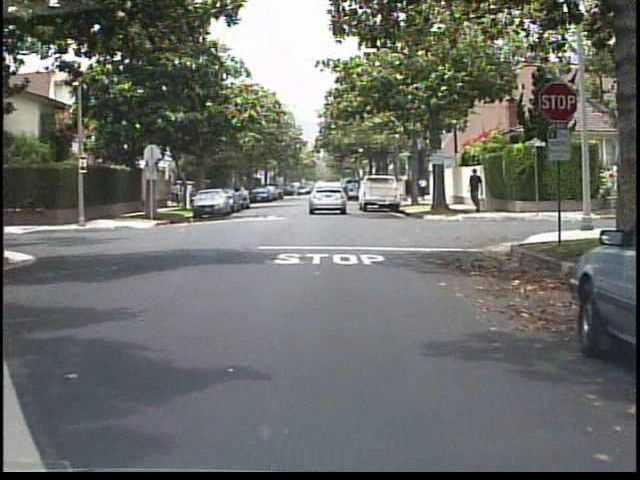person: (464, 164, 490, 218), (168, 179, 186, 209), (415, 172, 431, 205)
